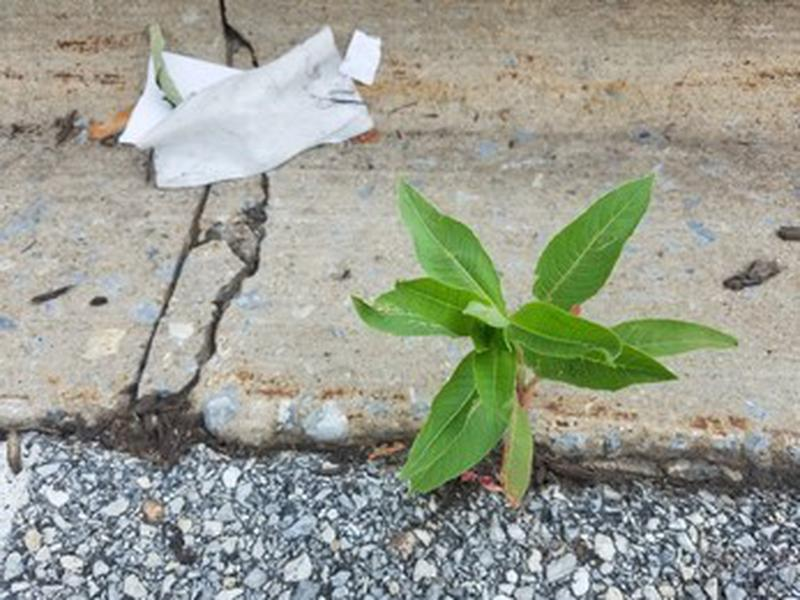paper: (119, 20, 400, 191)
